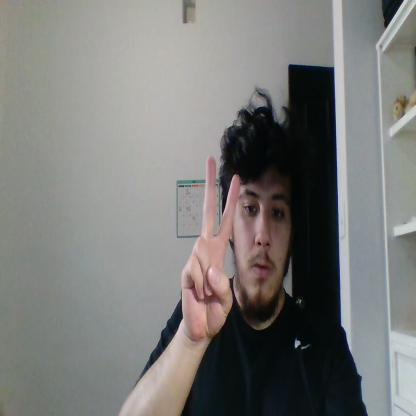V: (181, 156, 240, 339)
